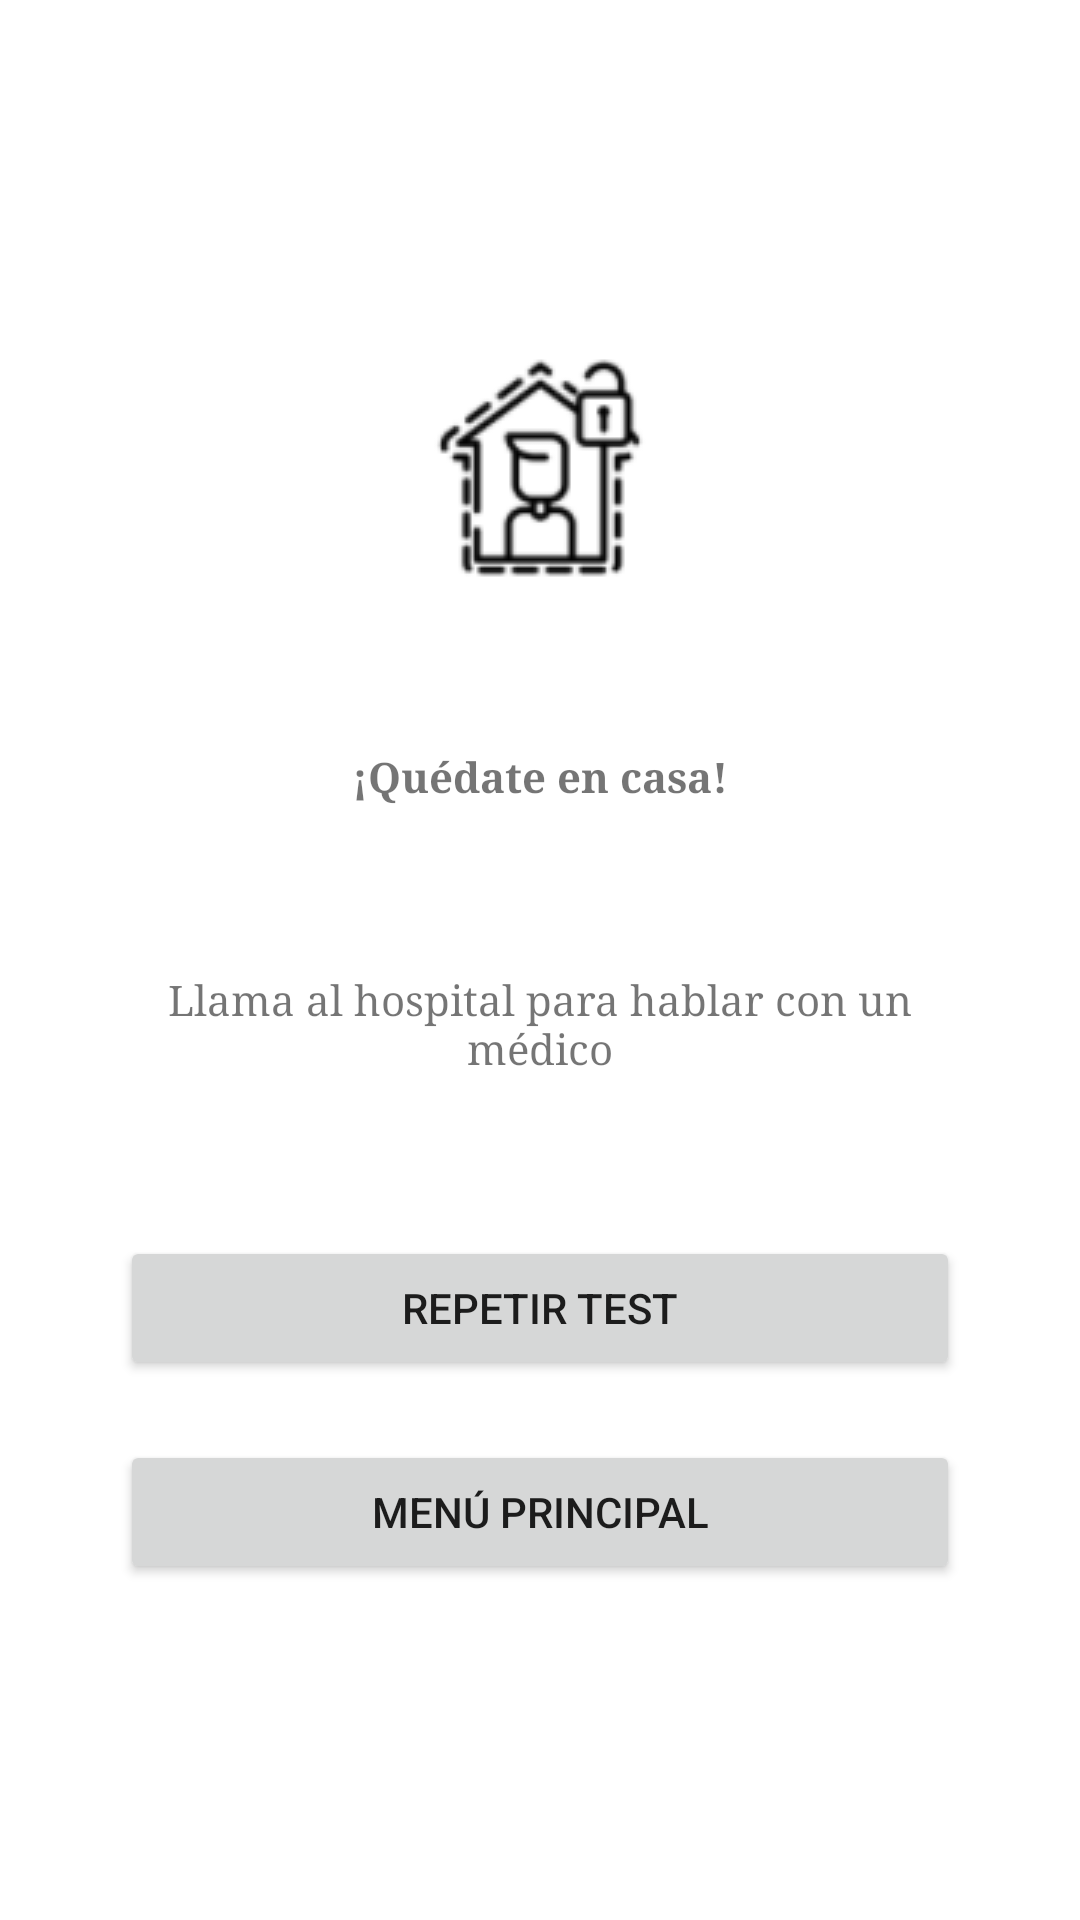

Icons on this 1080px×1920px Android screen, each with the point to tap as point (x, y):
enfermo: point (539, 468)
